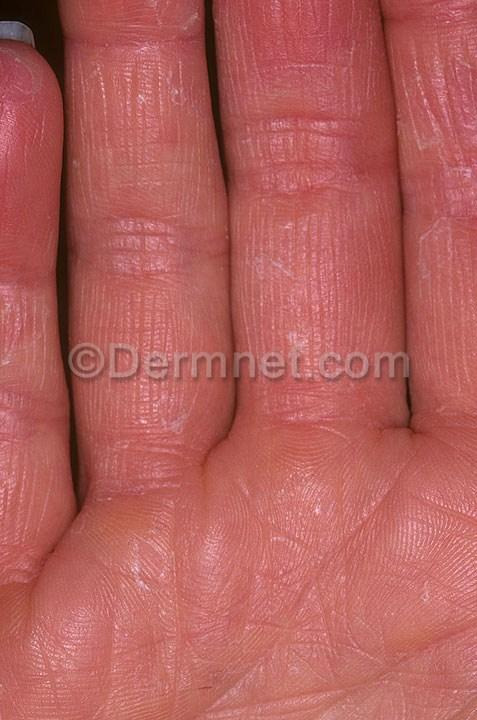Eczema: (215, 486, 477, 720), (0, 490, 234, 720), (233, 205, 402, 478), (67, 182, 212, 485), (236, 0, 373, 211), (72, 0, 217, 198), (0, 74, 70, 480), (376, 0, 477, 202), (410, 200, 477, 426)
